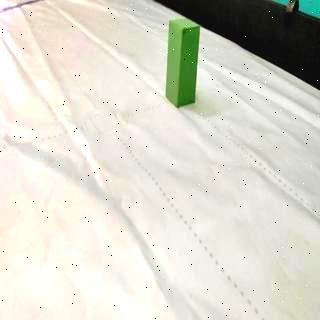greenbox: (163, 17, 200, 108)
